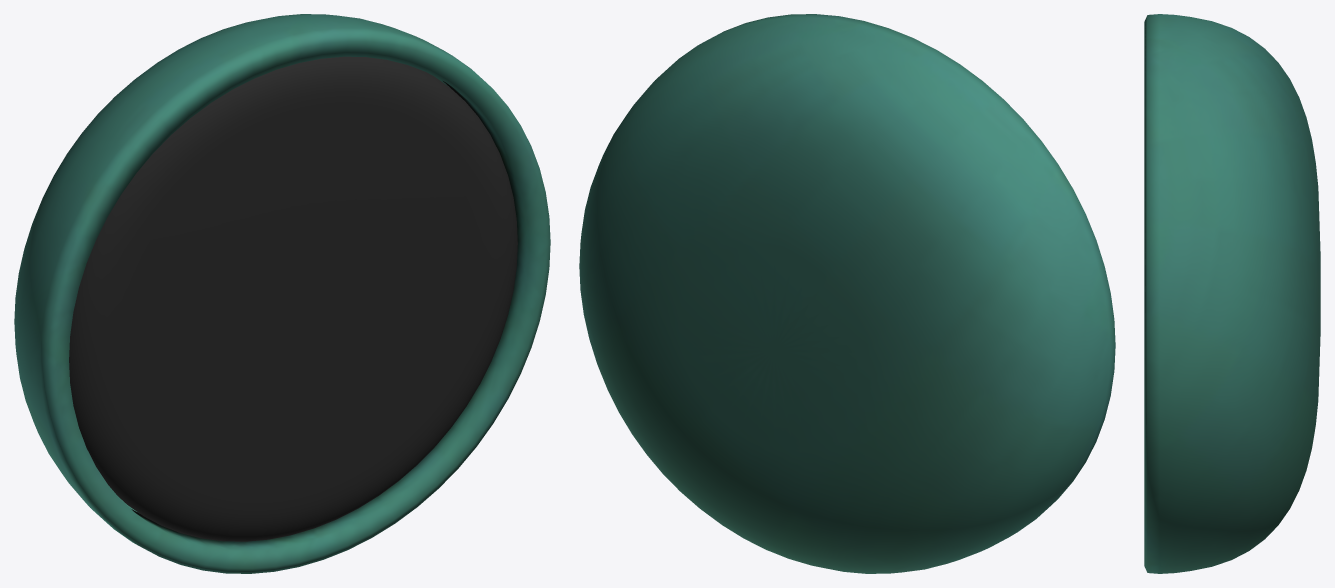
The model's file is timer_cyan.glb.
3 views of the same model, side by side, from view 1: azimuth 30°, elevation 25°; view 2: azimuth 150°, elevation 25°; view 3: azimuth 270°, elevation 25° (orthographic). The views are drawn at different scales.
Parts seen in each view (by area): view 1: Timer; view 2: Timer; view 3: Timer.
Boxes of the visible parts, x1=… form: Timer: x1=14, y1=14, x2=550, y2=573; Timer: x1=579, y1=14, x2=1115, y2=573; Timer: x1=1144, y1=14, x2=1320, y2=573.
Size of the model in its own units: 1.99 by 1.99 by 0.625.
Materials: 2 (1 with a texture image).
